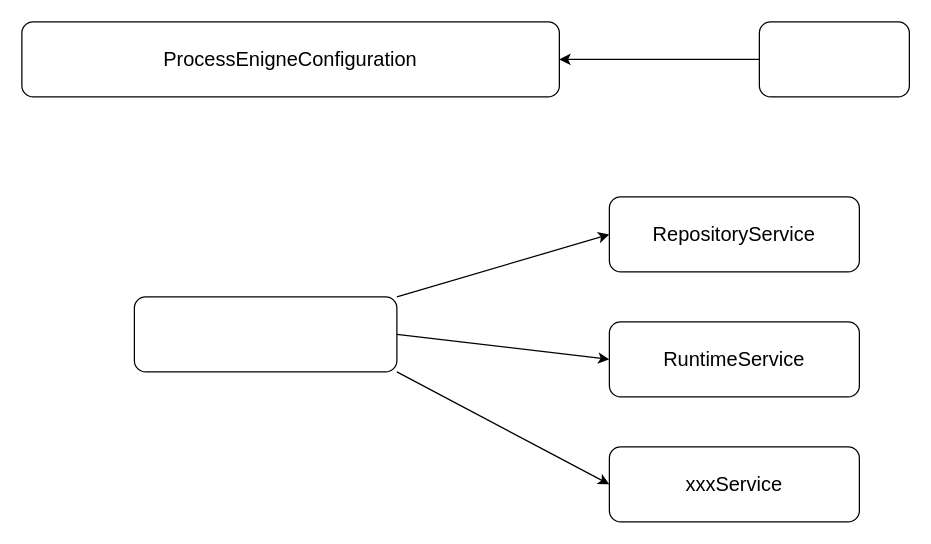
Image size: 931x544. Some labels were removed from this diagram. The box of each missing label's shape, as (x1, y1, x2, y2) in pixels:
activiti.cfg.xml: (758, 21, 909, 97)
ProcessEnigne: (133, 296, 397, 372)
